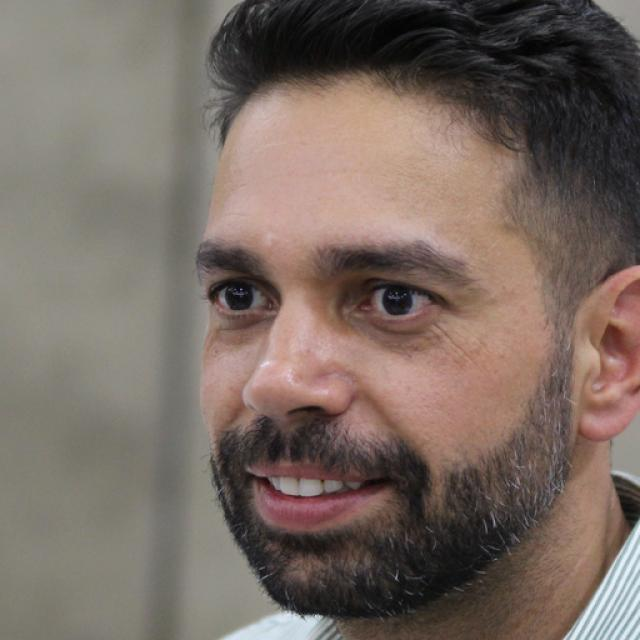Dark Circle: (345, 311, 448, 354), (210, 312, 276, 342)
